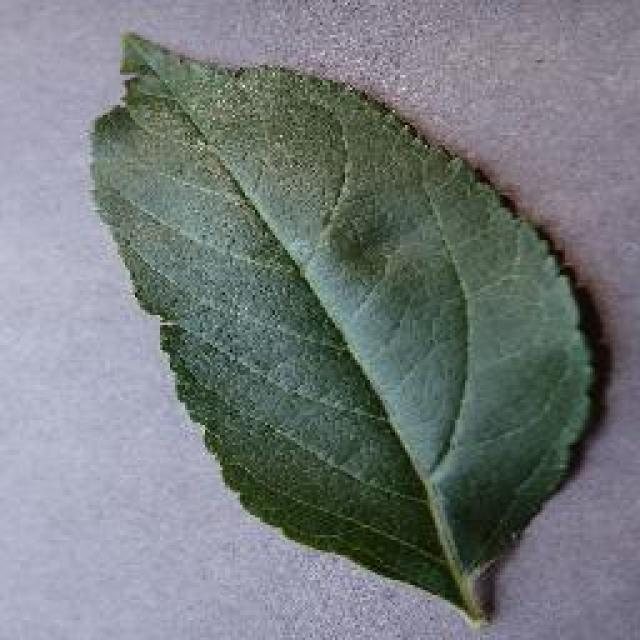apple healthy: (85, 28, 605, 628)
